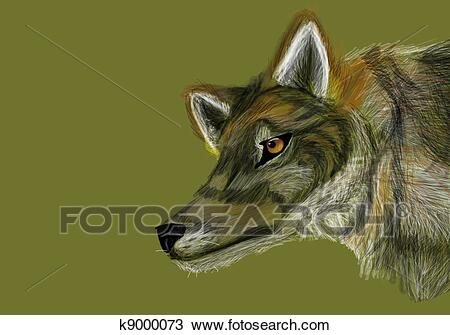Lobo: (137, 7, 427, 284)
